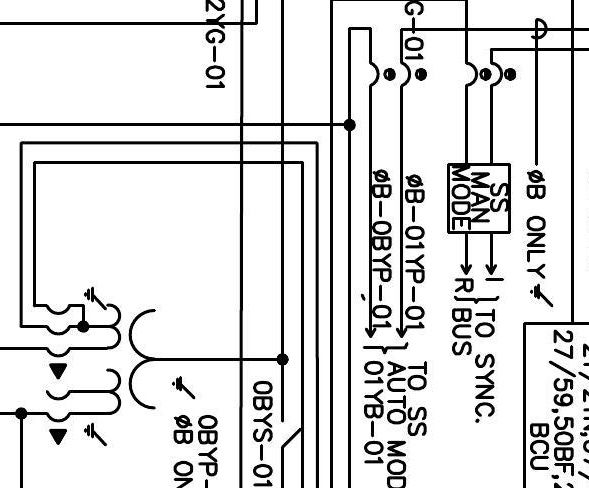115_ds: (280, 418, 301, 448)
115_vt_1p: (45, 285, 197, 447)
ss_man_mode: (446, 162, 512, 235)
